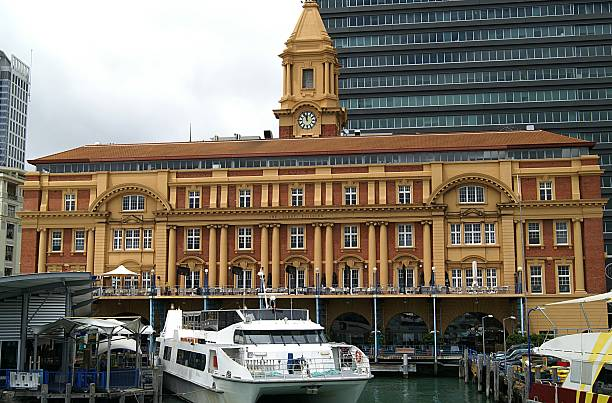ferry: (156, 310, 374, 403)
